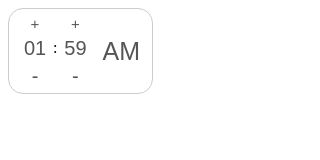
TimeInput – stepping › increments the minute and wraps past 59
The width and height of the screenshot is (320, 160).
What coordinates should you click on to do the following:
click the 2nd button "+"
I would click on:
 (76, 23)
Its box is [58,11,94,36].
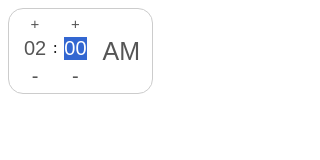
expect the 2nd field with placeholder "--" holds "00": met, box [58,36,94,61]
